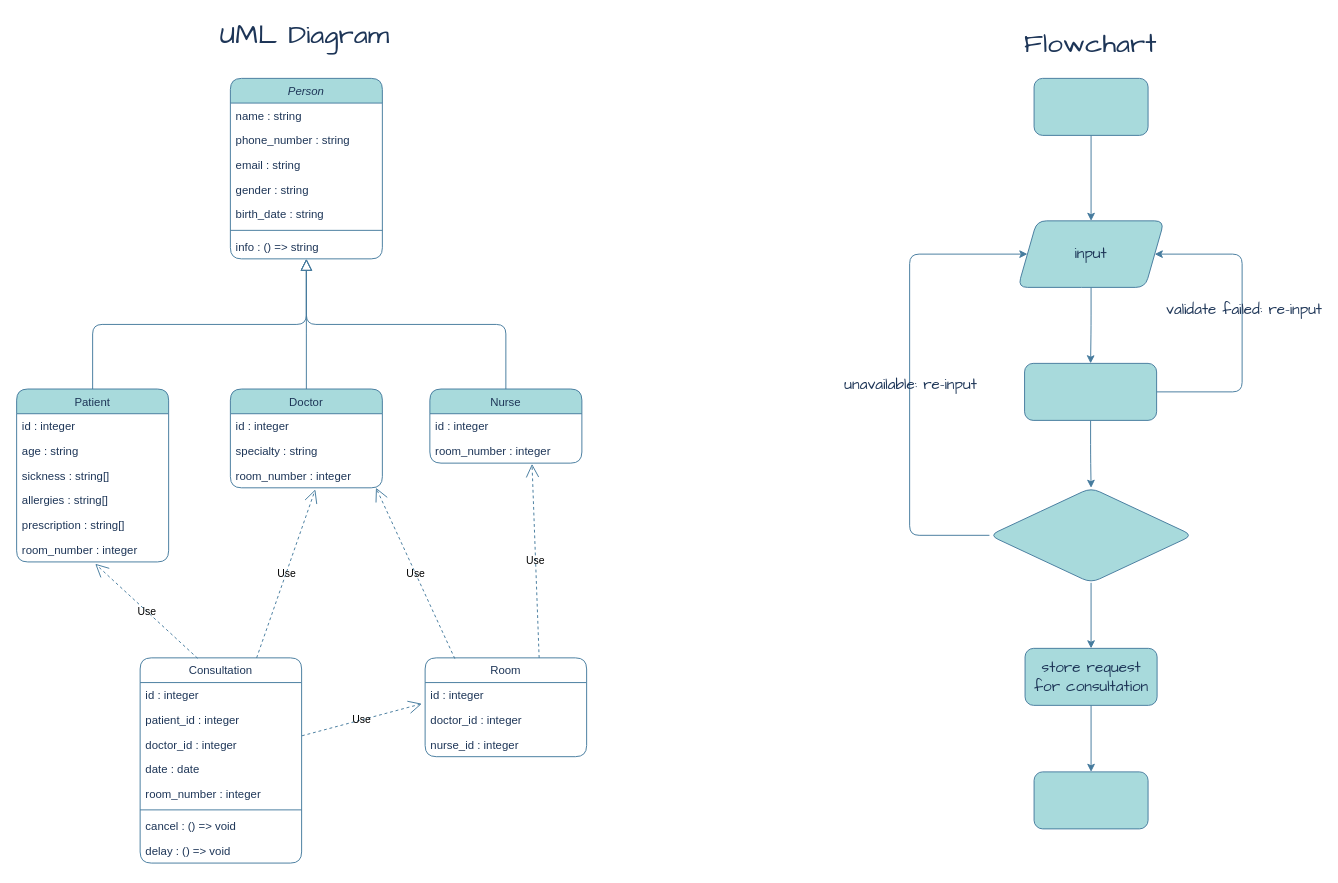
The diagram is 1338 pixels wide and 883 high, and some of its shapes have lost their labels. Here are the shapes that lost their labels. From the top down, the centre of each, then its label:
pixel 1090 106: Start
pixel 1090 391: validate input
pixel 1090 535: available room & schedule
pixel 1090 800: End
